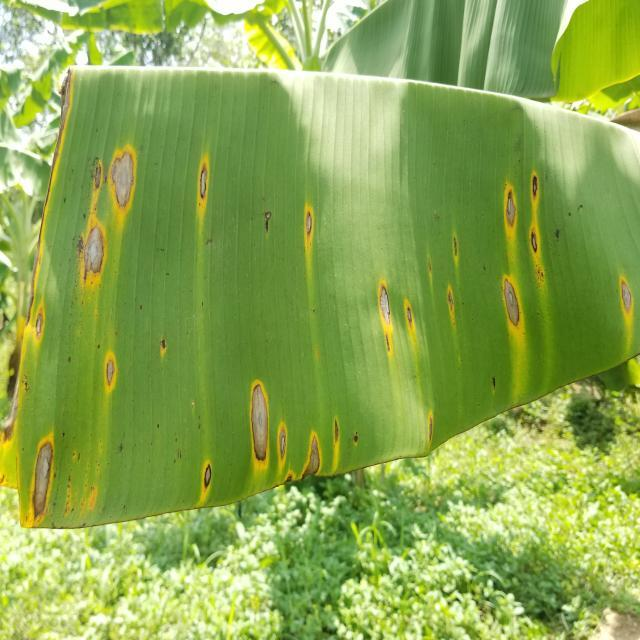Early_rust: (0, 53, 640, 525)
